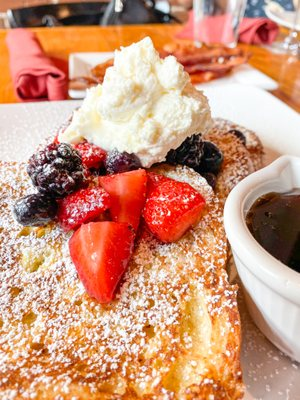pizza: (192, 0, 247, 49)
sushi: (223, 154, 300, 372)
